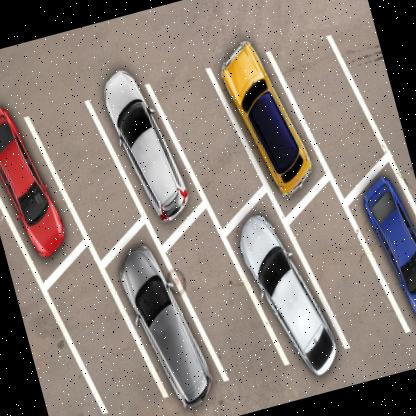Car: (233, 206, 346, 388), (110, 230, 218, 416), (210, 20, 316, 197), (96, 58, 192, 228), (0, 96, 70, 271), (353, 170, 416, 330)
Empty: (45, 258, 145, 416), (40, 90, 130, 240), (172, 225, 262, 375), (298, 201, 390, 337), (289, 34, 370, 183), (167, 70, 252, 210)
